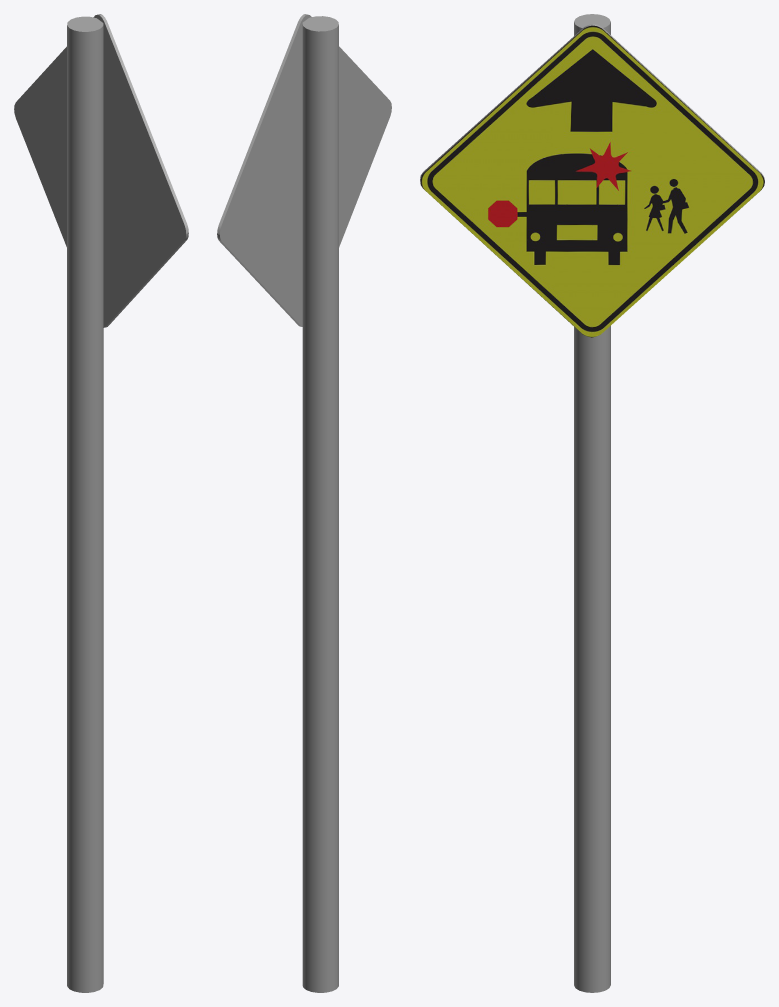
Rendered from sign.fbx.
3 renders of one model, left to right at view 1: azimuth 30°, elevation 25°; view 2: azimuth 150°, elevation 25°; view 3: azimuth 270°, elevation 25°, orthographic.
Visible parts, largest first — view 1: pCylinder1, pCube1; view 2: pCylinder1, pCube1; view 3: pCube1, pCylinder1.
Boxes of the visible parts, left/top/right/bottom form: pCylinder1: left=67, top=16, right=103, bottom=992; pCube1: left=14, top=14, right=188, bottom=327; pCylinder1: left=302, top=16, right=338, bottom=992; pCube1: left=217, top=14, right=391, bottom=326; pCube1: left=420, top=24, right=764, bottom=337; pCylinder1: left=574, top=14, right=610, bottom=992.
Size of the model in its own units: 0.1542 by 4.25 by 1.37.
